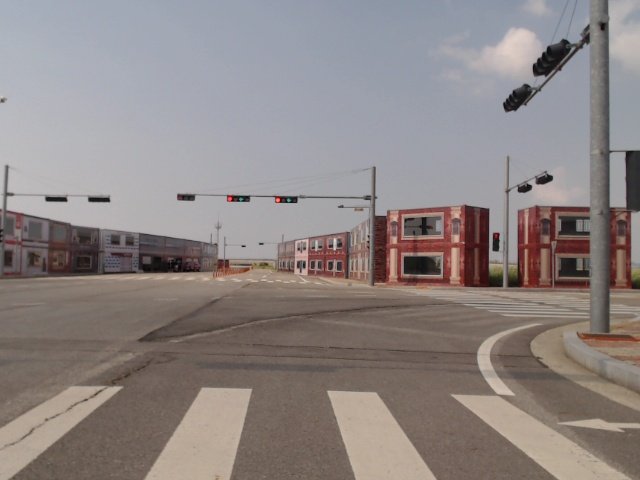left_green_4: (276, 197, 297, 204), (227, 196, 249, 202)
